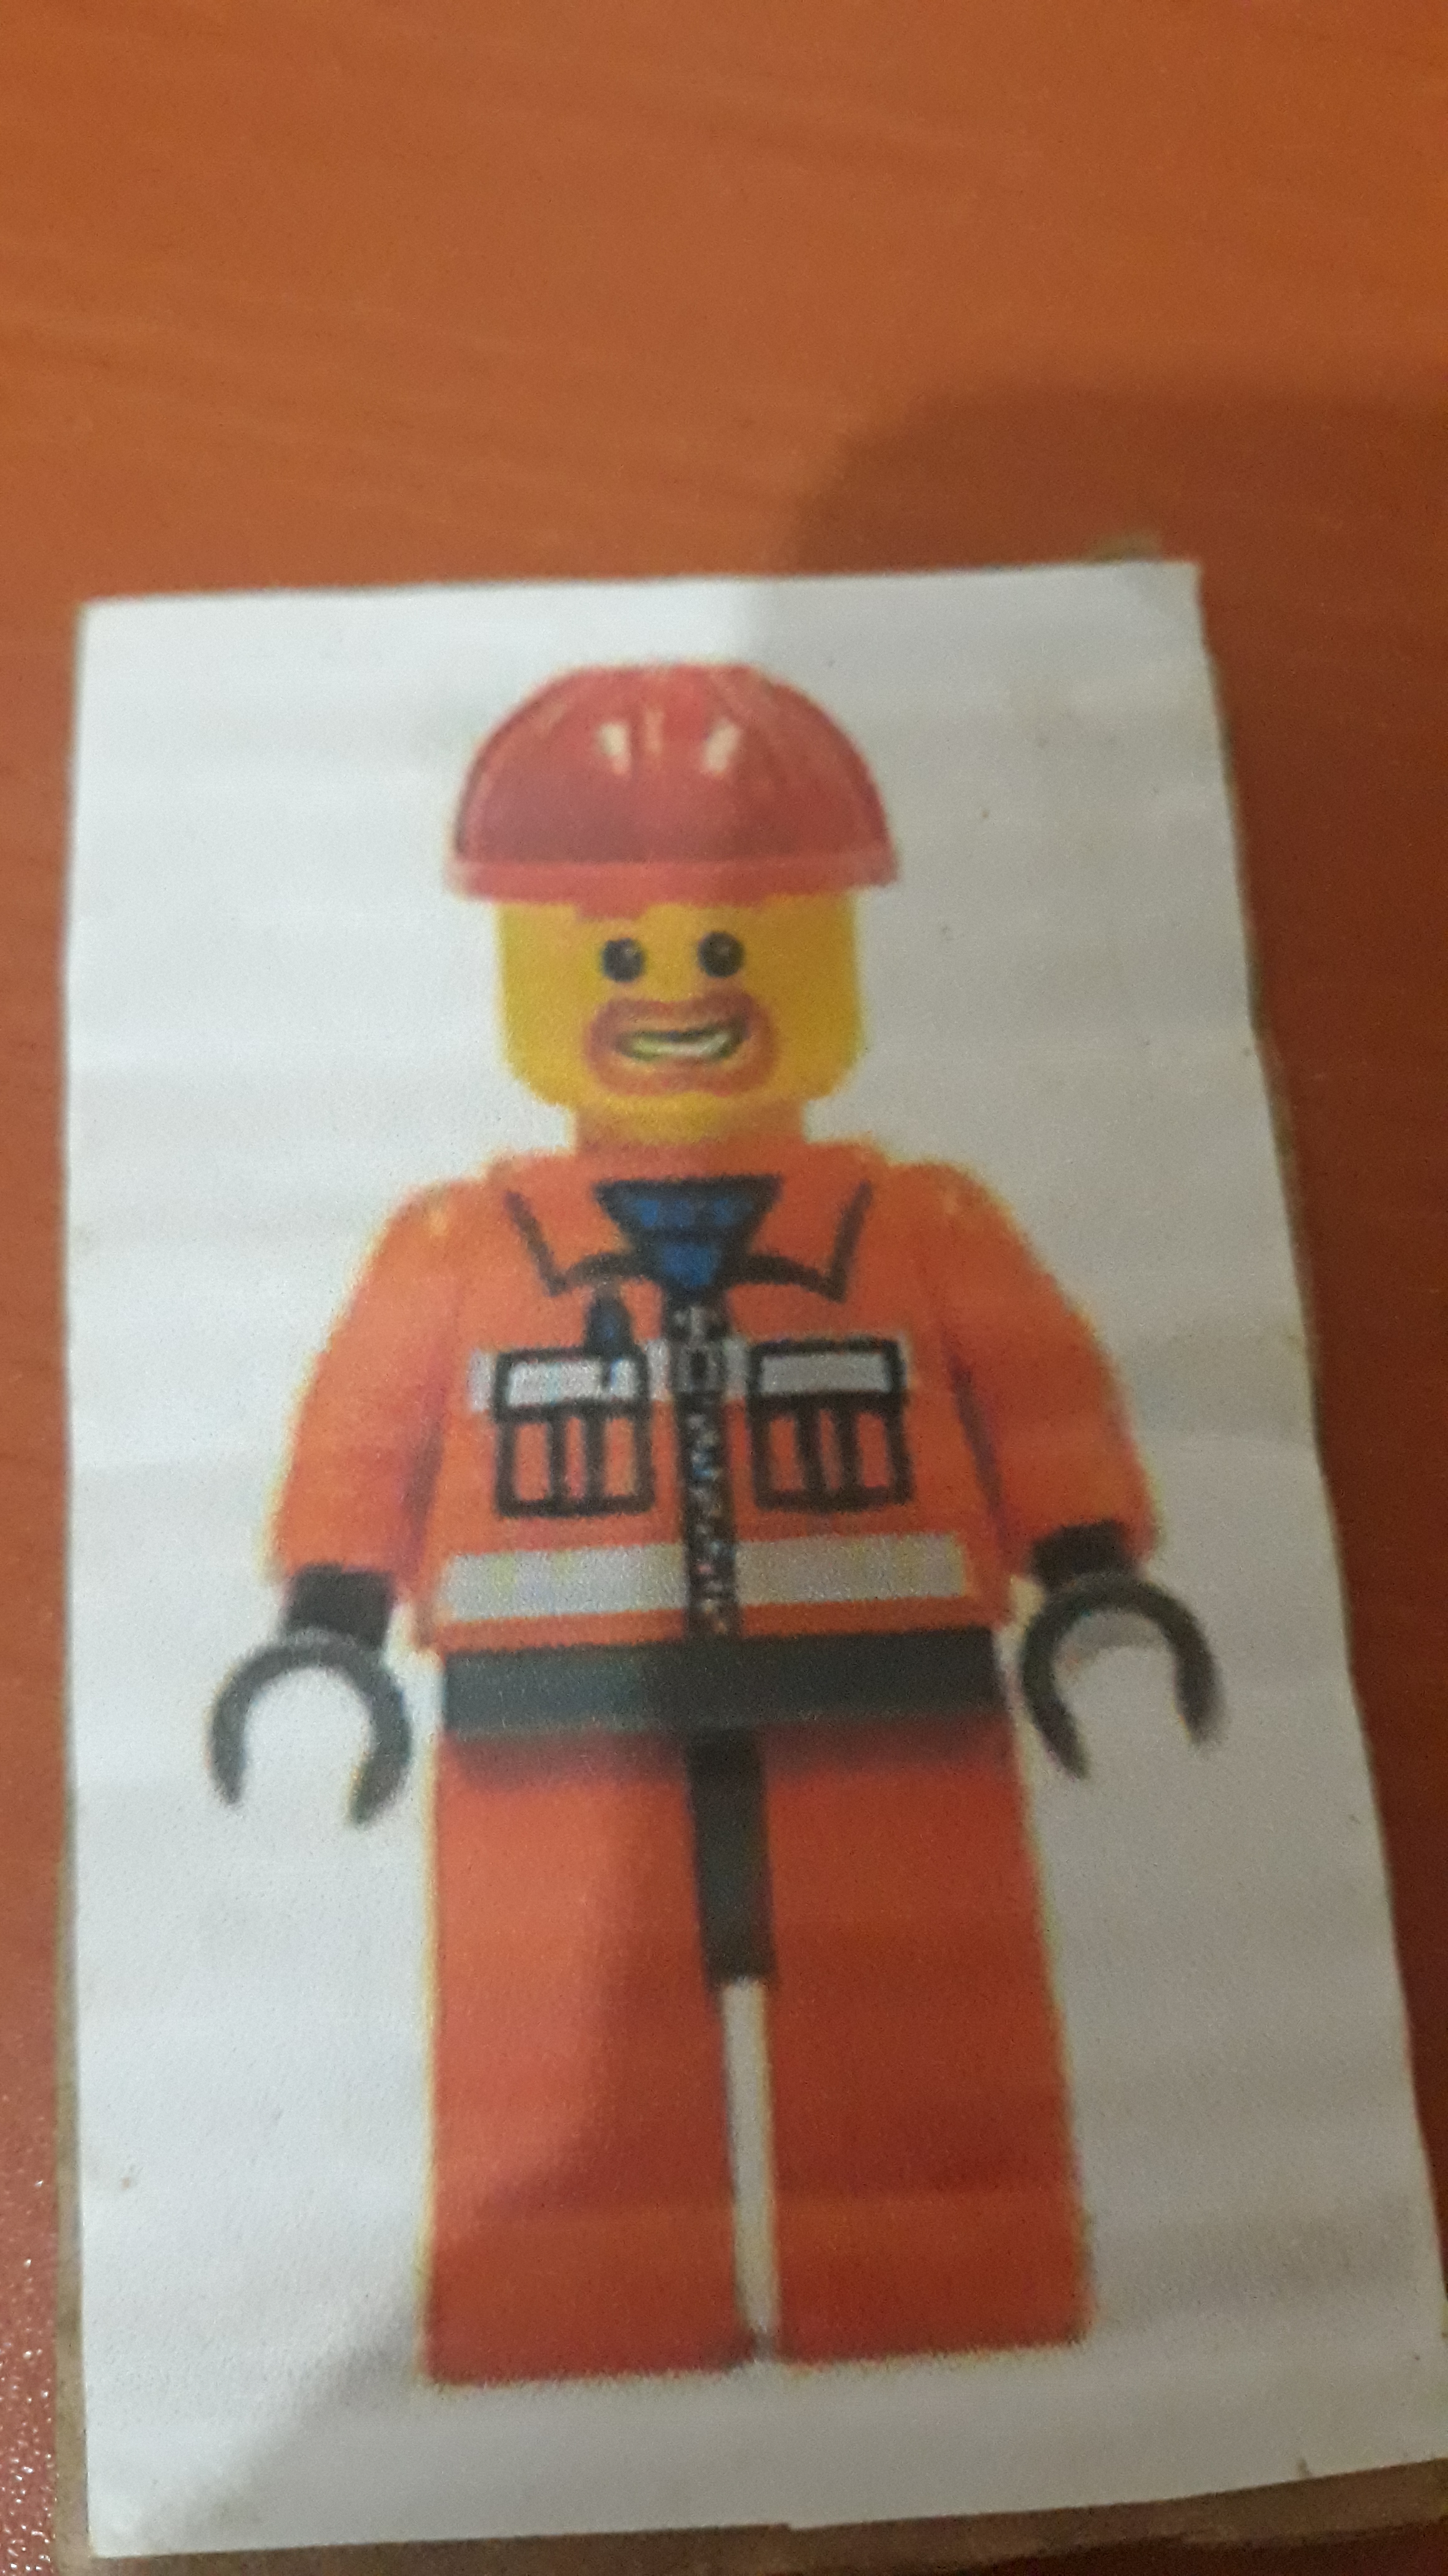pedestrian: (159, 637, 1336, 2446)
